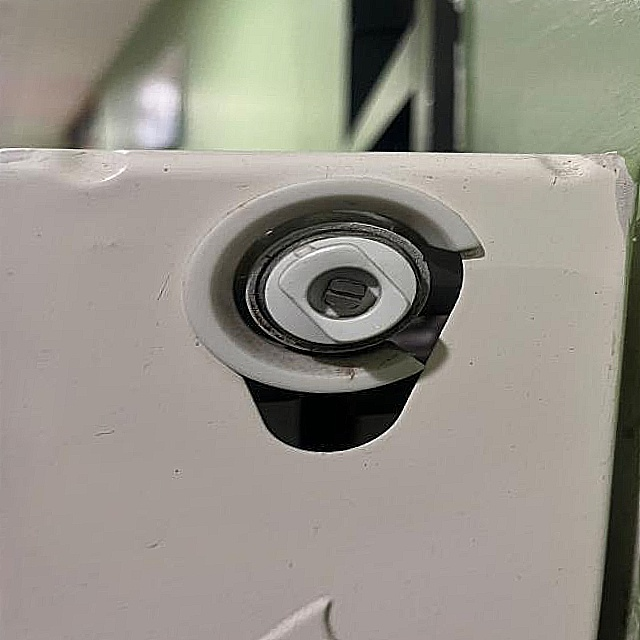duz: (323, 278, 368, 310)
